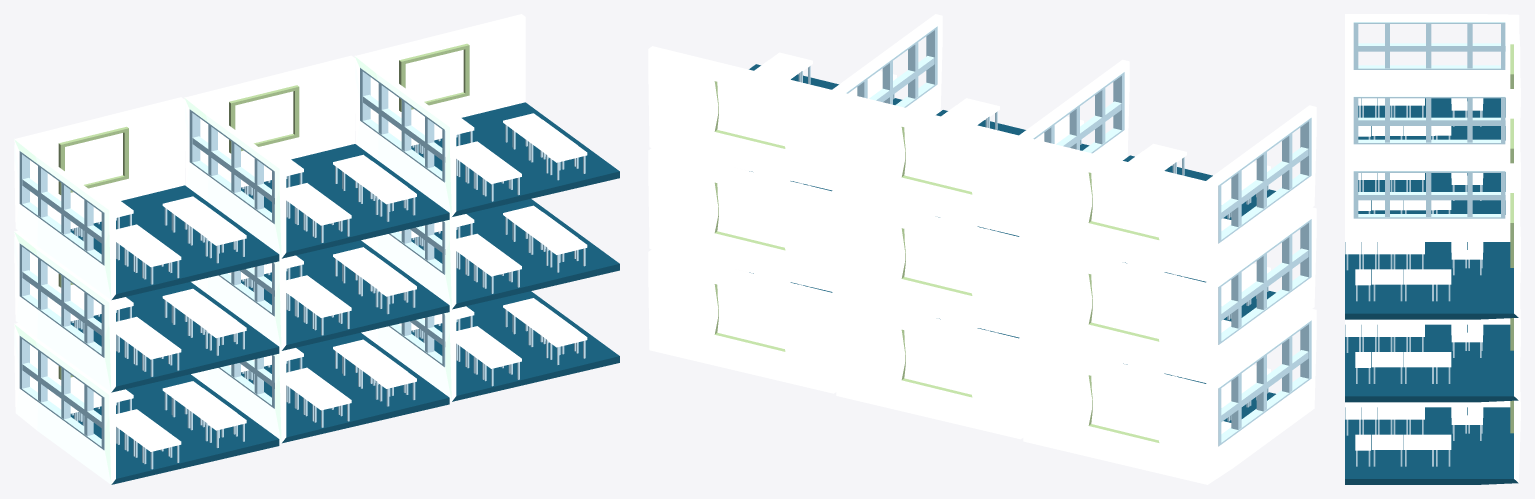
Rendered from classroom2.glb.
3 views of the same model, side by side, from view 1: azimuth 30°, elevation 25°; view 2: azimuth 150°, elevation 25°; view 3: azimuth 270°, elevation 25° (orthographic). The views are drawn at different scales.
Visible parts, largest first — view 1: Cube.002; view 2: Cube.002; view 3: Cube.002.
Part boxes in pixels (x1=…): Cube.002: x1=14, y1=14, x2=619, y2=484; Cube.002: x1=648, y1=14, x2=1316, y2=484; Cube.002: x1=1345, y1=14, x2=1520, y2=484.
Bounding box in the file's own units: 6.25 × 3.24 × 2.08.
